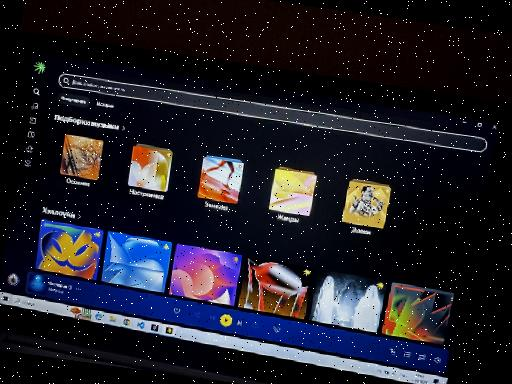yandexmusic: (0, 53, 484, 378)
